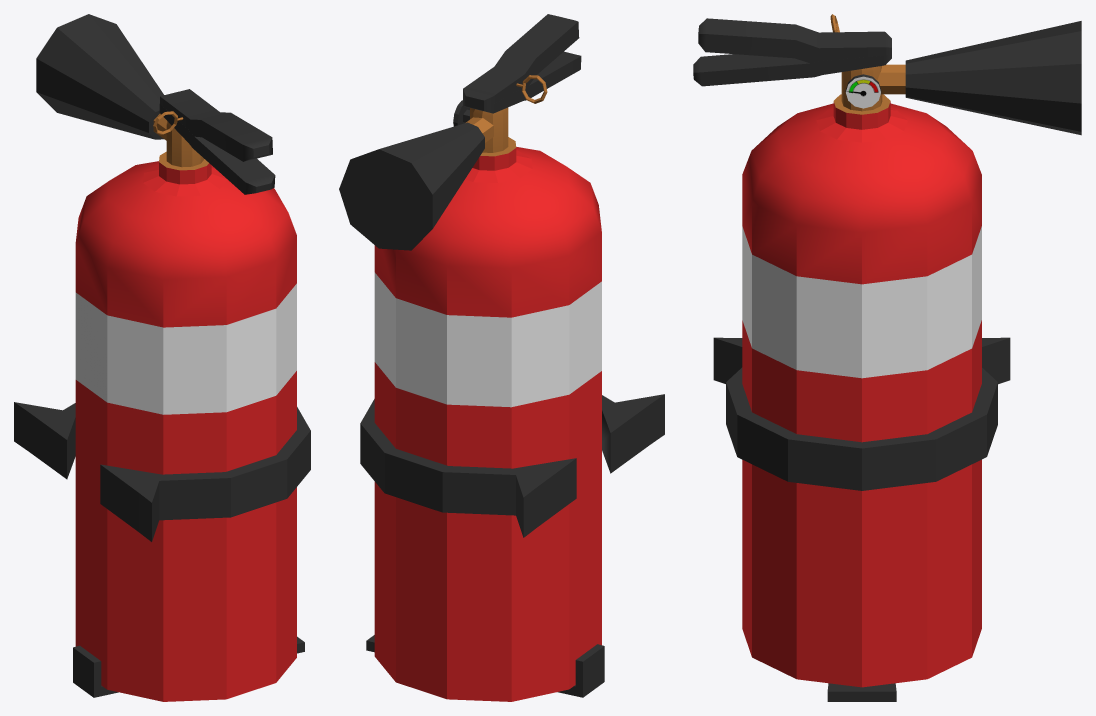
The model's file is prop-fire-extinguisher.glb.
The picture shows the model from 3 angles, left to right: view 1: azimuth 30°, elevation 25°; view 2: azimuth 150°, elevation 25°; view 3: azimuth 270°, elevation 25°; orthographic projection. The views are drawn at different scales.
Visible parts, largest first — view 1: Top_Bolt_Mesh.001; view 2: Top_Bolt_Mesh.001; view 3: Top_Bolt_Mesh.001.
Part boxes in pixels (x1,y1,x2,y2): Top_Bolt_Mesh.001: [14, 14, 310, 701]; Top_Bolt_Mesh.001: [339, 14, 664, 701]; Top_Bolt_Mesh.001: [693, 14, 1081, 701].
Bounding box in the file's own units: 2.17 × 5.67 × 3.21.
1 material, 1 textured.
